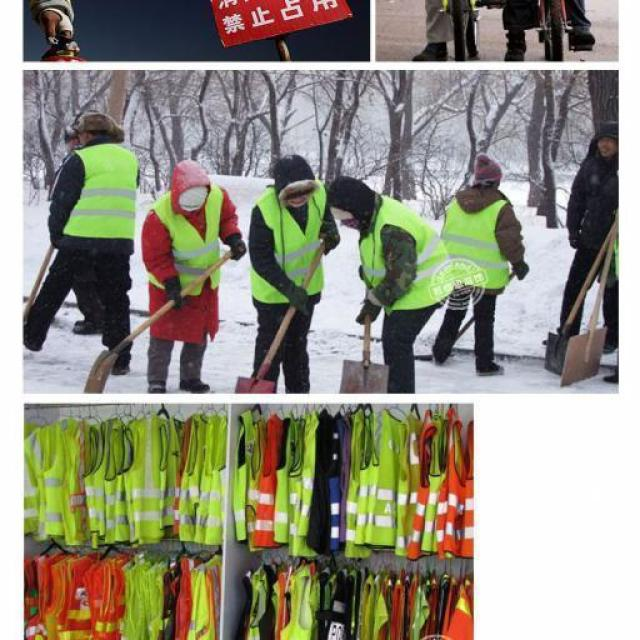hand_glove: (349, 297, 385, 331), (160, 279, 190, 313), (286, 280, 315, 312), (316, 226, 345, 256), (224, 237, 250, 264), (508, 255, 532, 284)
head_nohelmet: (332, 176, 384, 230), (272, 150, 316, 196), (78, 108, 122, 148), (168, 157, 212, 196), (471, 149, 502, 192), (593, 120, 619, 164)
person: (26, 116, 140, 374), (325, 163, 454, 388), (140, 148, 248, 394), (238, 145, 344, 391), (430, 148, 534, 372), (551, 119, 618, 371)
shoes: (69, 312, 110, 338), (176, 367, 214, 395), (472, 354, 508, 376), (142, 370, 172, 395), (430, 339, 452, 366)
vest: (357, 201, 454, 308), (252, 186, 328, 310), (62, 148, 142, 247), (148, 192, 226, 292), (440, 192, 510, 298)
